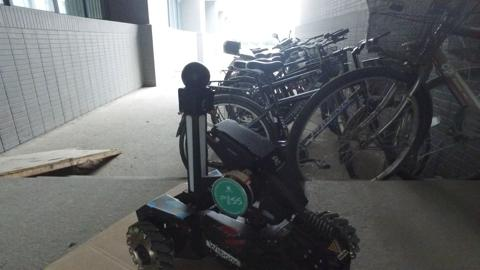bike: (296, 11, 472, 168)
chariot: (129, 62, 356, 267)
